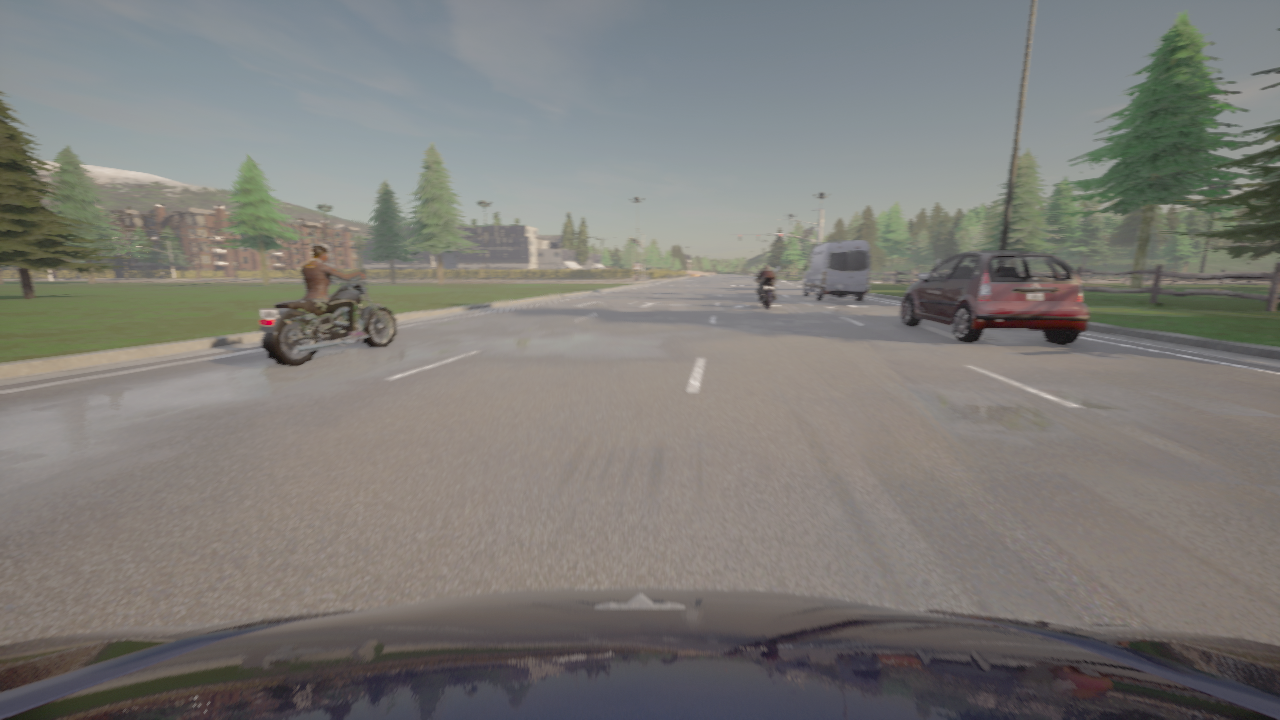cyclist: (0, 588, 1279, 719), (900, 251, 1088, 344), (258, 270, 396, 367), (802, 241, 869, 300), (754, 274, 777, 308)
